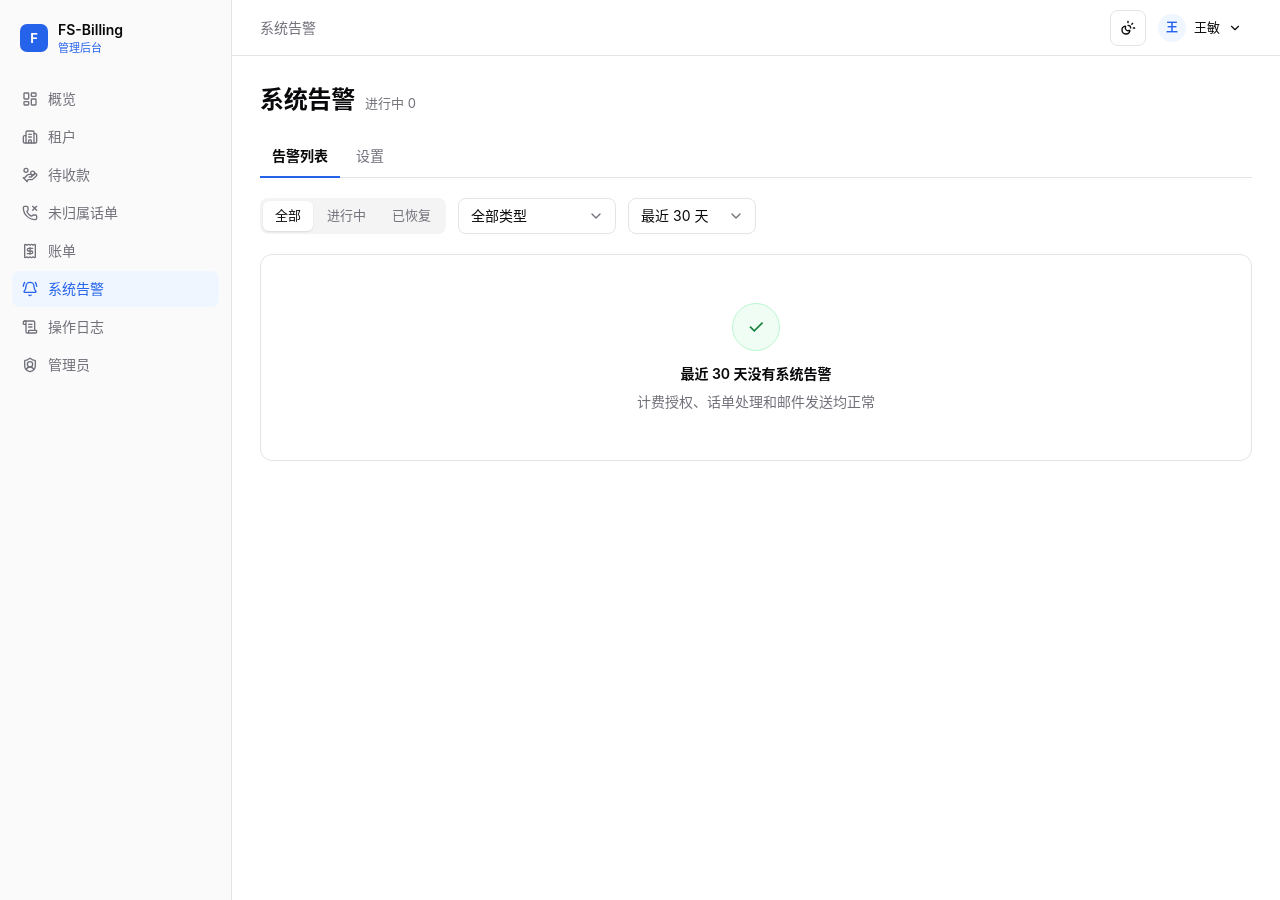
Test: shows empty list, mail configuration, validates input and handles a conflict
Expected: the text "最近 30 天没有系统告警" is shown, [680, 365, 832, 382]
Click the tab "设置". click: click(370, 157)
box: [344, 136, 396, 178]
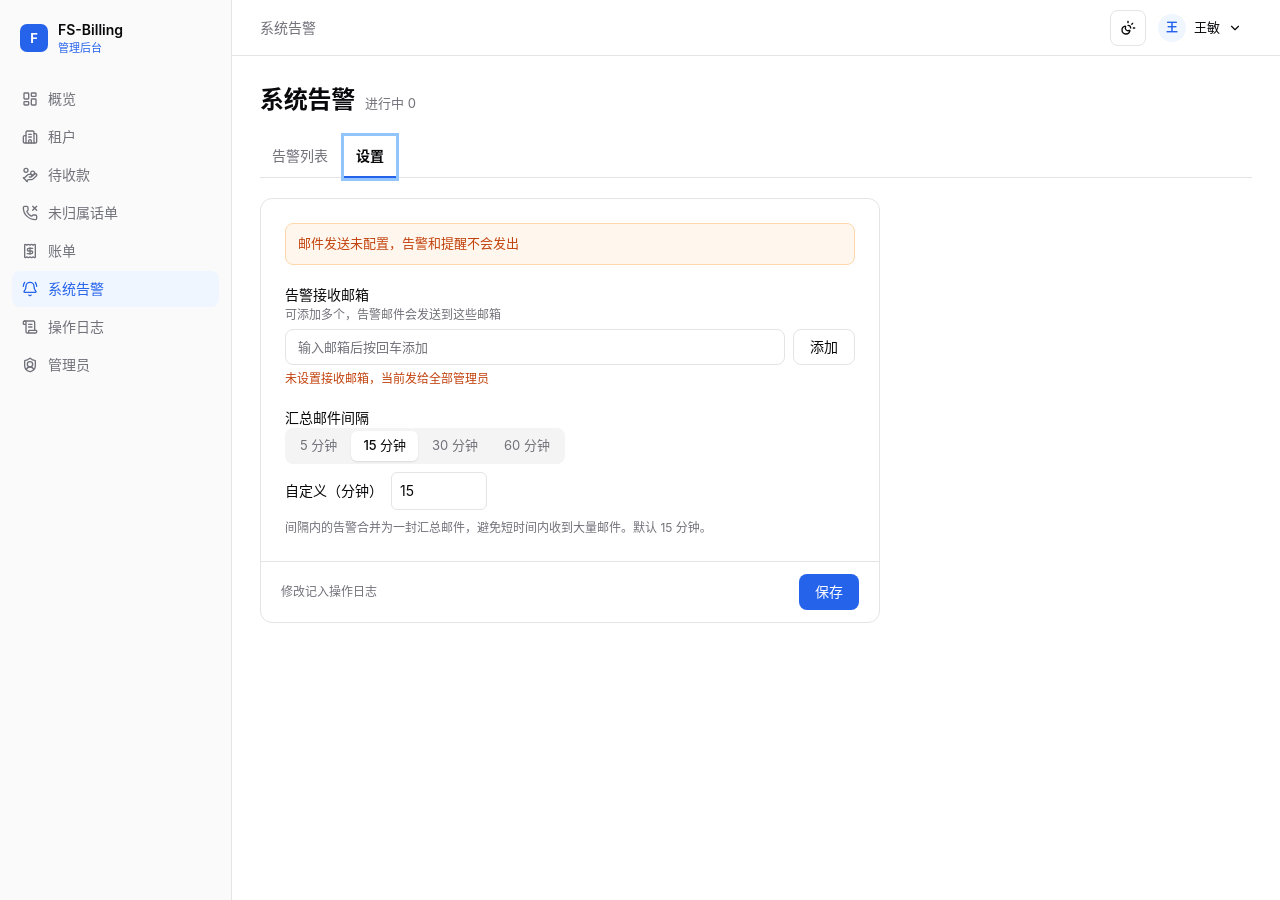
Now the text "邮件发送未配置，告警和提醒不会发出" is shown, box [298, 235, 519, 251]
Now the text "未设置接收邮箱，当前发给全部管理员" is shown, box [285, 370, 489, 386]
Type "bad" into the field labelled "告警接收邮箱". click: (535, 346)
box: [285, 328, 785, 364]
Then press Enter
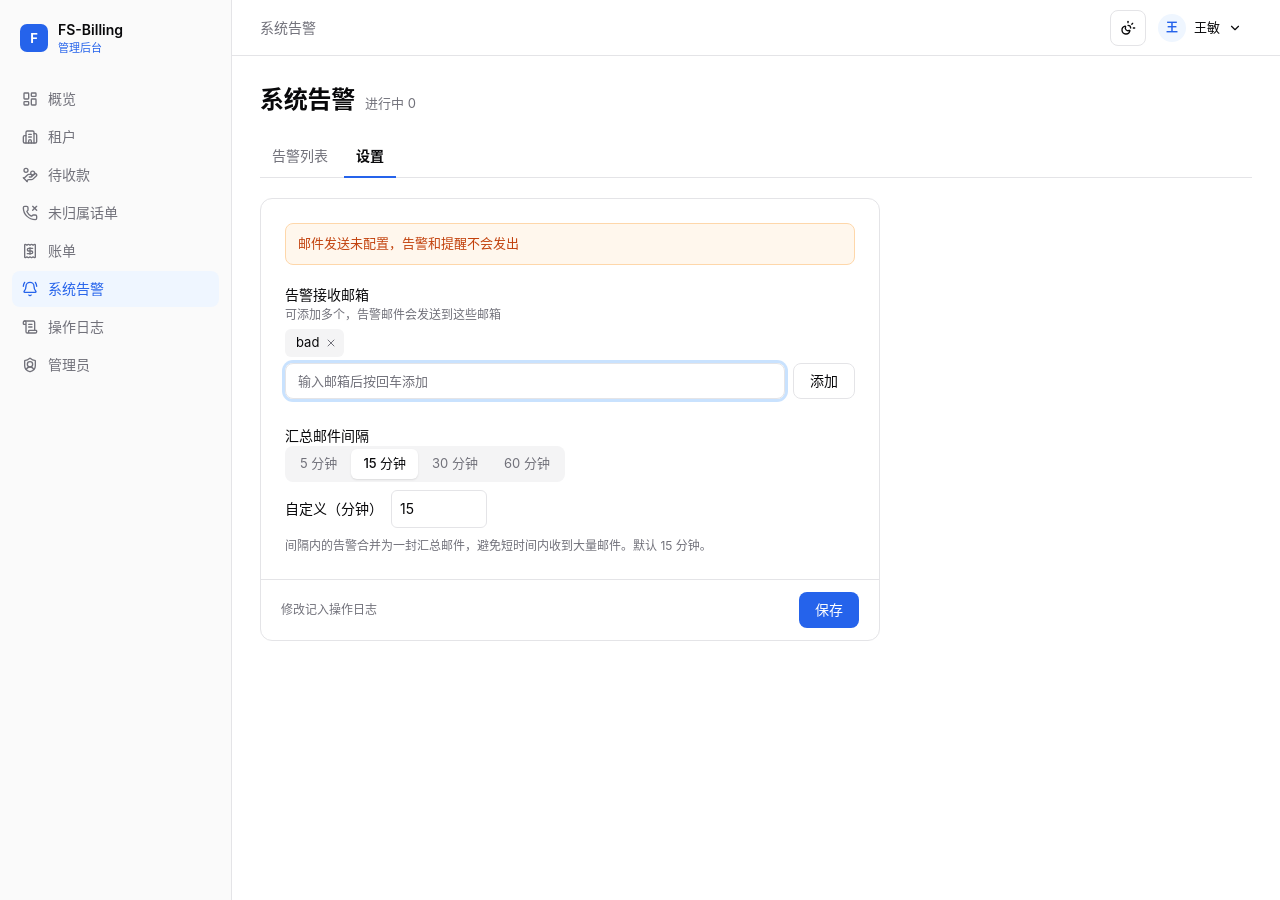
Click the button "保存". click: click(829, 610)
box: [799, 592, 859, 628]
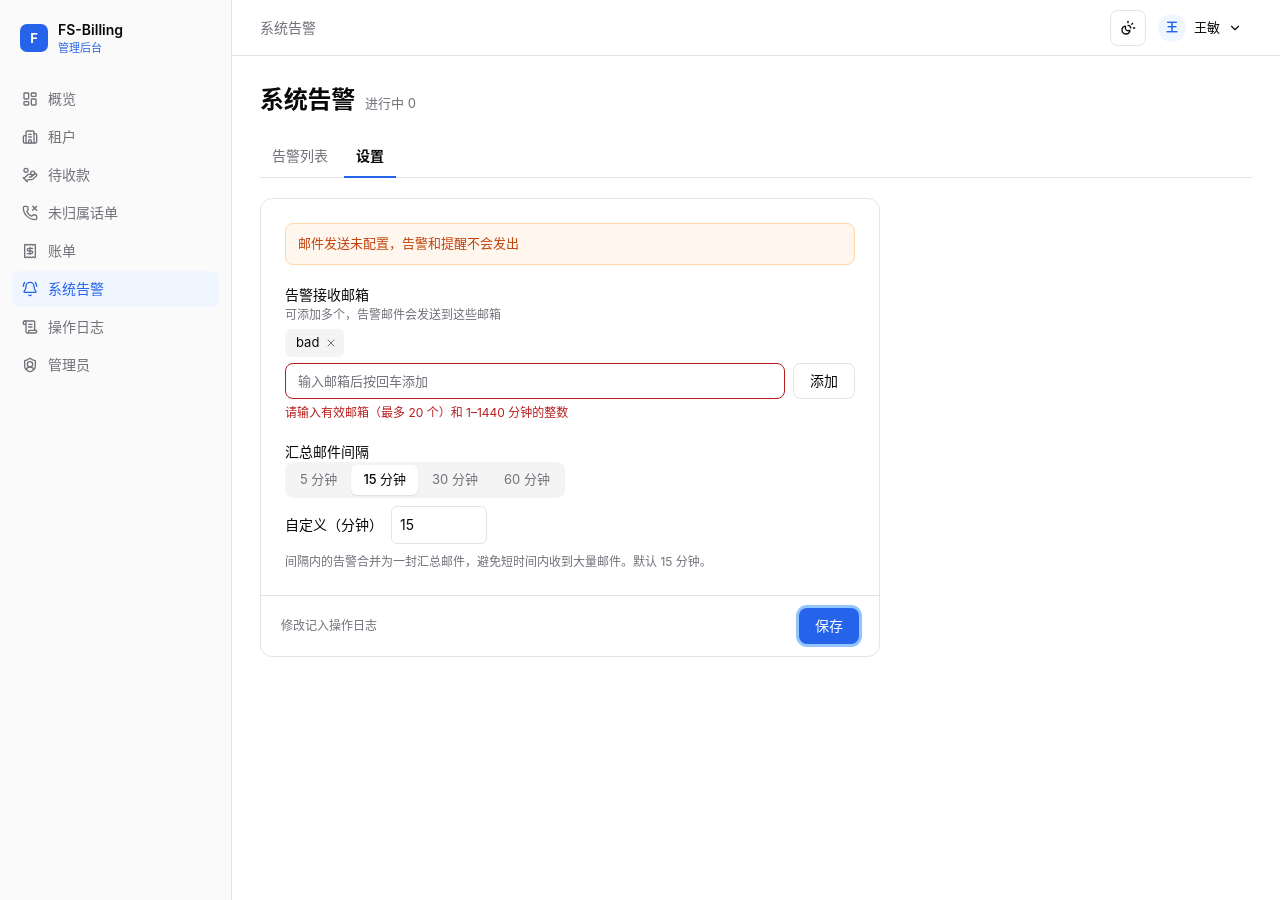
Now the text "请输入有效邮箱（最多 20 个）和 1–1440 分钟的整数" is shown, box [285, 404, 568, 420]
Click the button named "移除 bad". click: click(331, 342)
box: [325, 336, 337, 348]
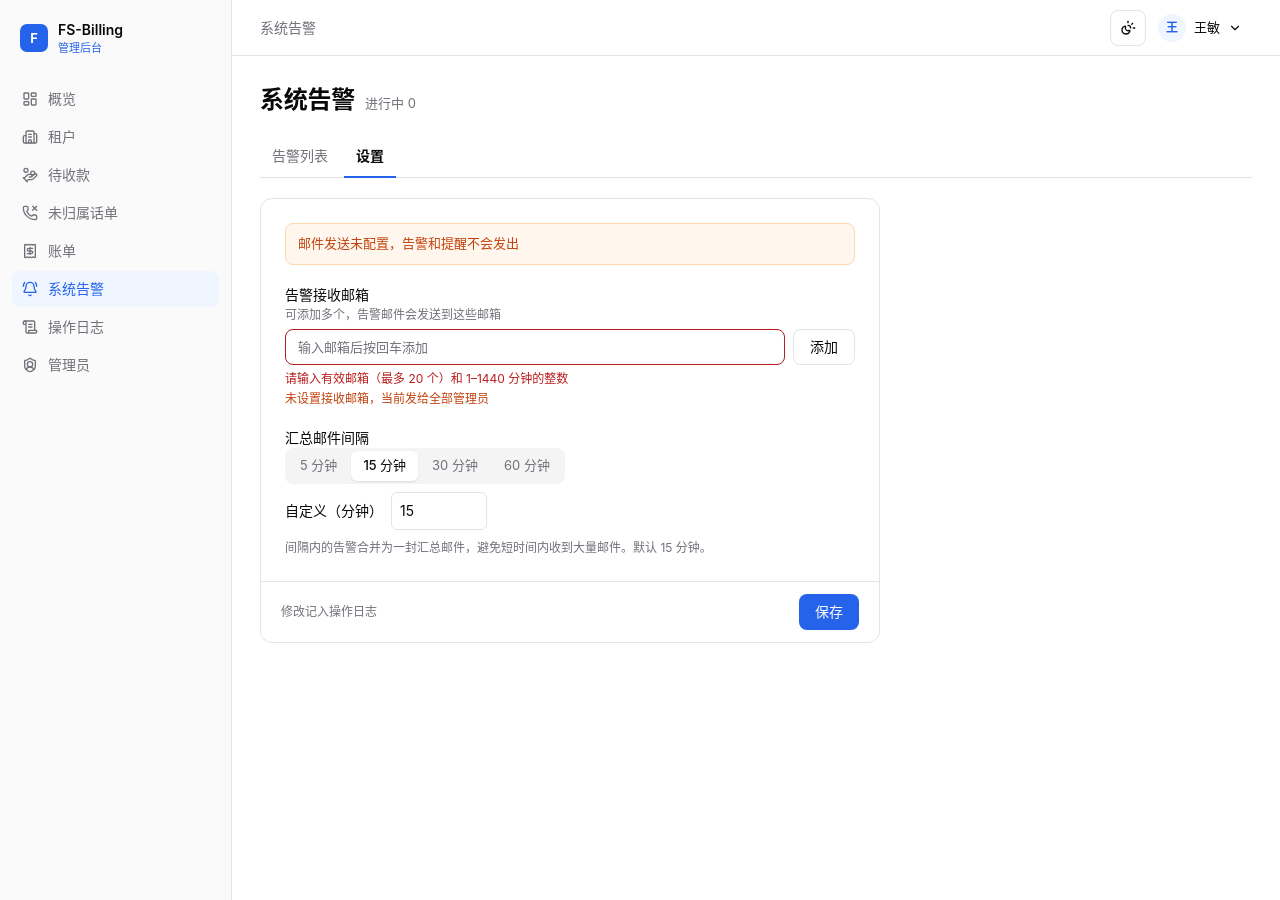
Type "ops@example.com" into the field labelled "告警接收邮箱". click: (535, 346)
box: [285, 328, 785, 364]
Then press Enter
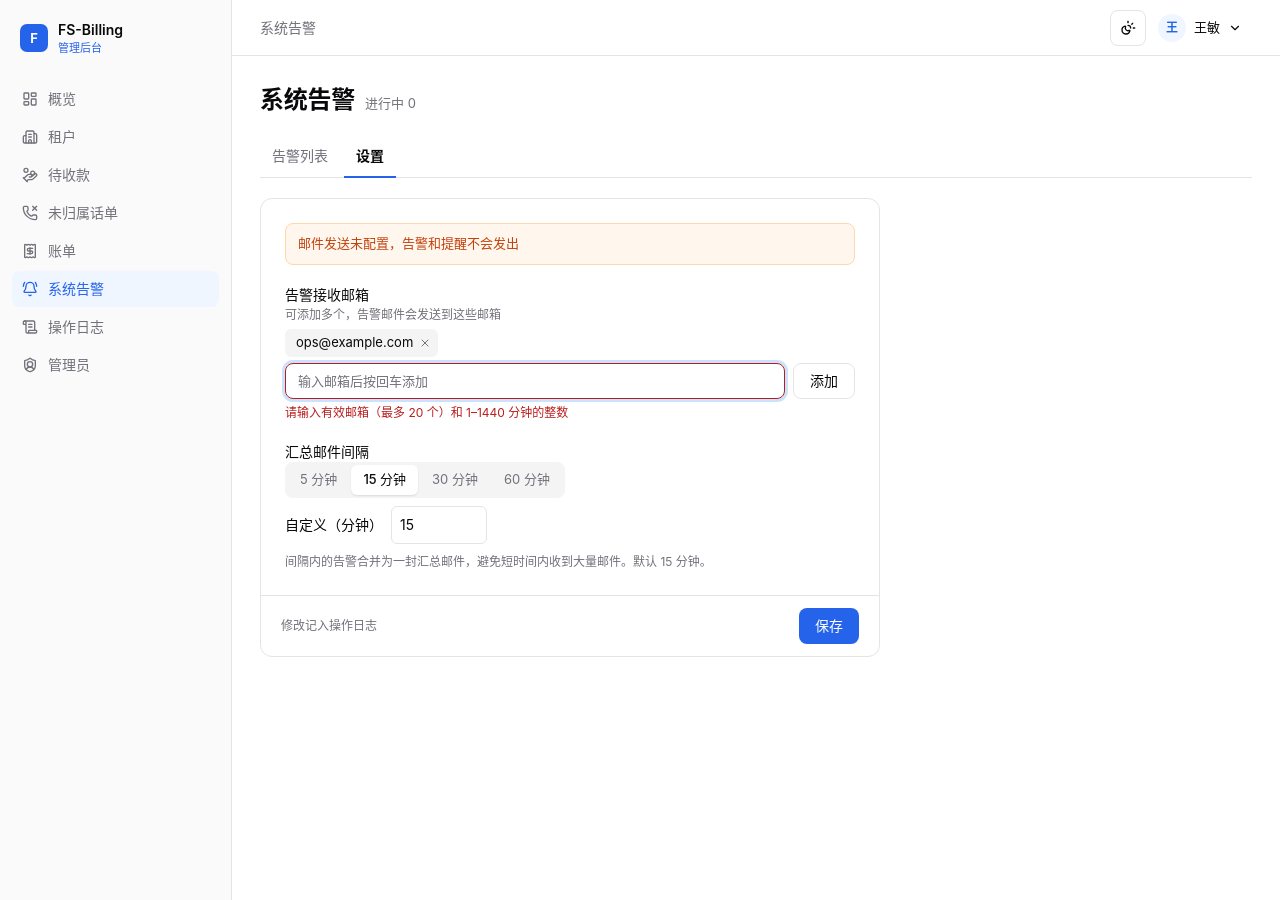
Now the button named "移除 ops@example.com" is shown, box [419, 336, 431, 348]
Click the button "保存". click: click(829, 626)
box: [799, 608, 859, 644]
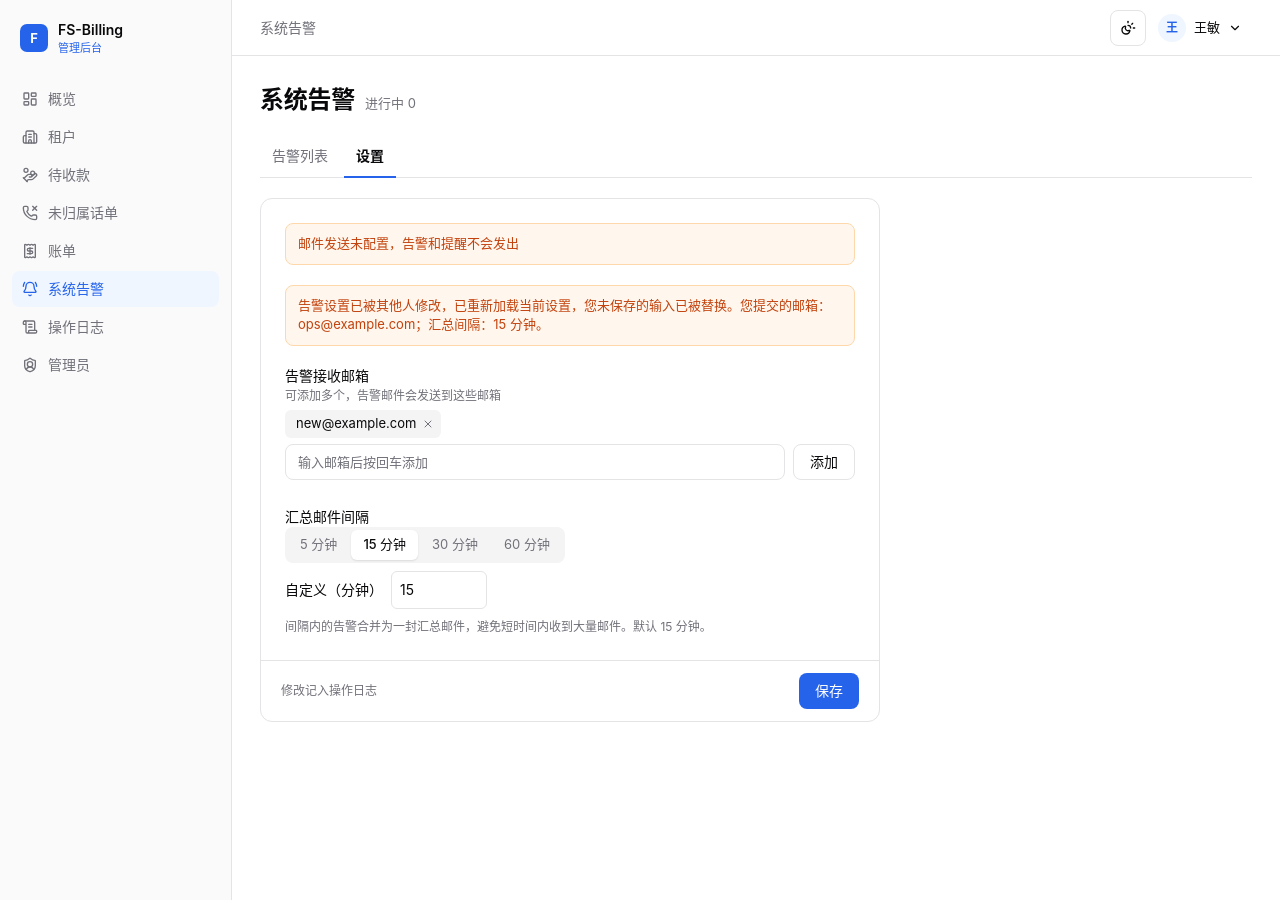
Now the button named "移除 new@example.com" is shown, box [422, 418, 434, 430]
Now the message shows "您未保存的输入已被替换", box [298, 296, 831, 312]
Now the message shows "ops@example.com", box [298, 316, 415, 332]
